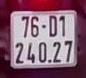0: (38, 39, 48, 64)
1: (60, 13, 67, 37)
2: (14, 40, 26, 64), (53, 40, 63, 64)
4: (26, 41, 36, 66)
6: (30, 15, 40, 37)
7: (64, 39, 74, 62), (22, 14, 31, 38)
D: (49, 13, 59, 37)
